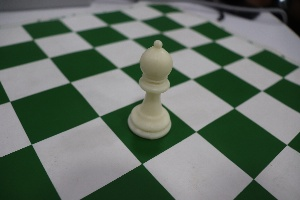white_bishop: (121, 30, 179, 146)
